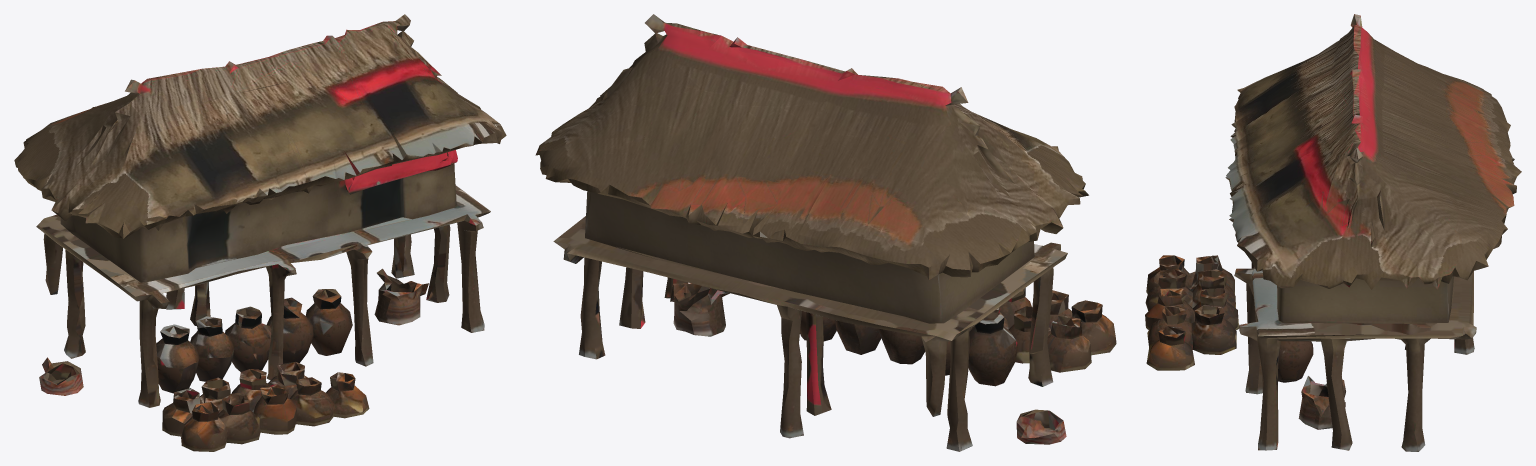
File: guaranies_almacen_mina.glb
The picture shows the model from 3 angles, left to right: view 1: azimuth 30°, elevation 25°; view 2: azimuth 150°, elevation 25°; view 3: azimuth 270°, elevation 25°; orthographic projection. The views are drawn at different scales.
Parts seen in each view (by area): view 1: geometry_0; view 2: geometry_0; view 3: geometry_0.
Part boxes in pixels (left/top/right/bottom): geometry_0: left=14, top=14, right=506, bottom=451; geometry_0: left=535, top=14, right=1116, bottom=451; geometry_0: left=1145, top=14, right=1521, bottom=451.
Bounding box in the file's own units: 1.4 × 0.9063 × 1.07.
Materials: 1 (1 with a texture image).
